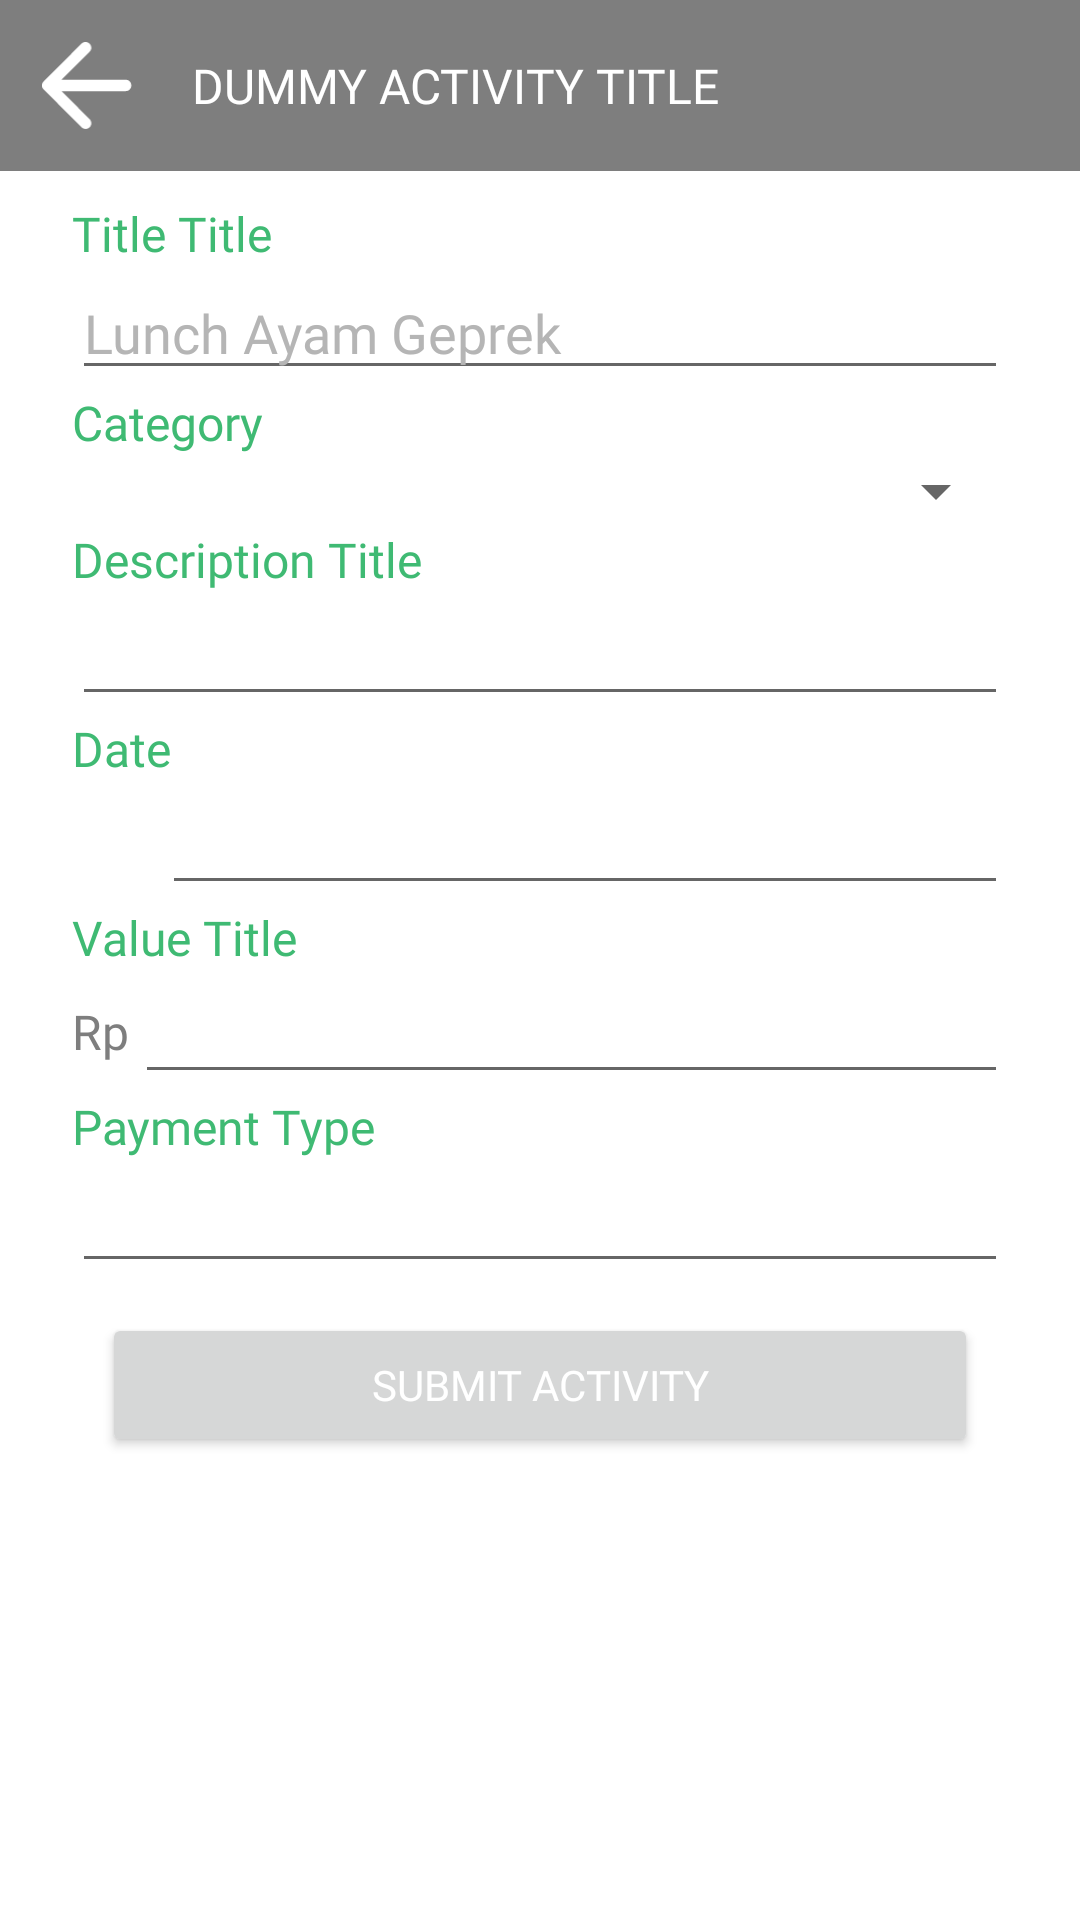

Locate icon controls on the screen. Image size 1080x1920, boxes as (x1, y1, x2, y2).
back: (42, 42, 132, 129)
